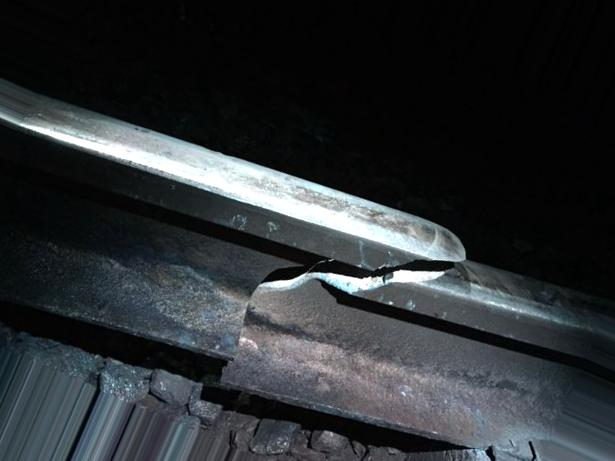tracks_fault: (187, 194, 486, 429)
